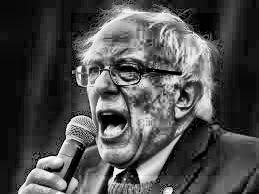angry: (71, 14, 220, 177)
